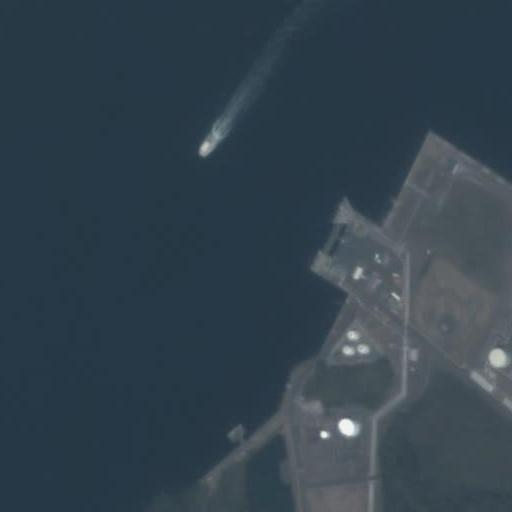person: (199, 139, 212, 157)
